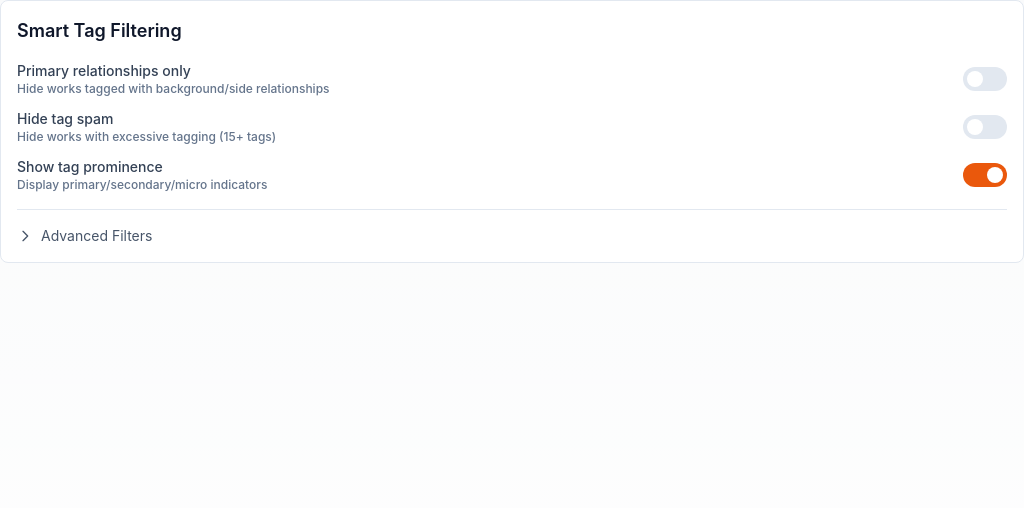
SmartTagFilter › shows advanced filters when toggled
// Toggle advanced filters
Click the button "Advanced Filters": (85, 236) x1=17 y1=226 x2=152 y2=246
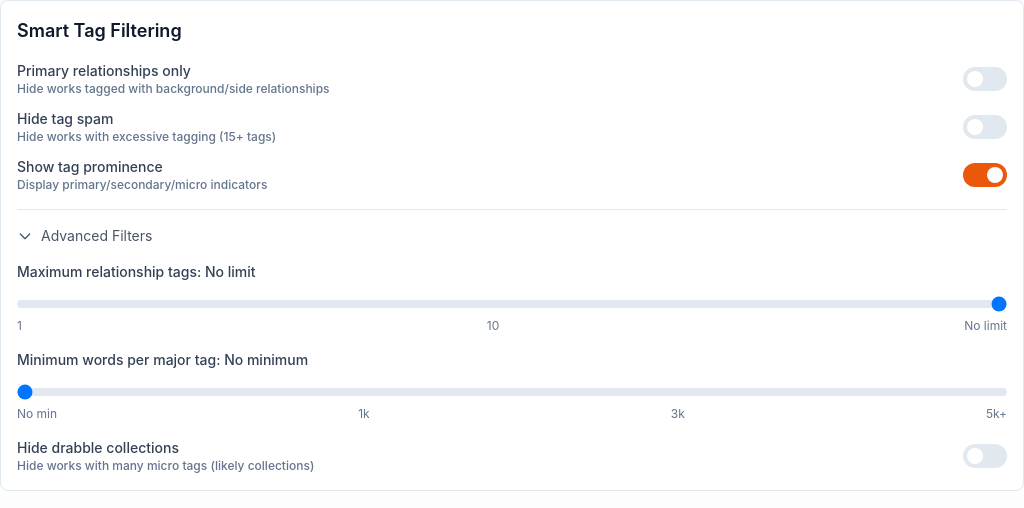
Result: the text "Maximum relationship tags: No limit" is shown at x1=17 y1=263 x2=256 y2=280
Result: the text "Minimum words per major tag: No minimum" is shown at x1=17 y1=351 x2=308 y2=368
Result: the text "Hide drabble collections" is shown at x1=17 y1=439 x2=179 y2=456
